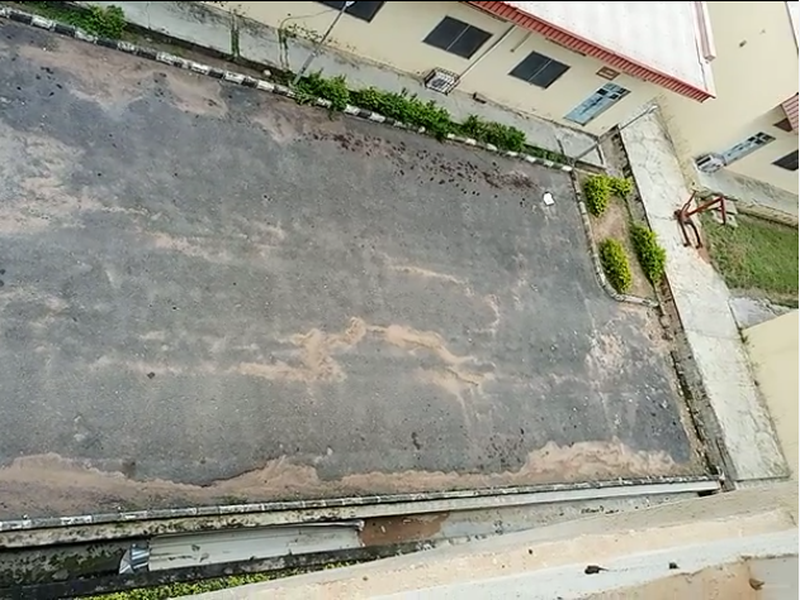five: (503, 145, 594, 293)
four: (362, 96, 457, 281)
three: (185, 55, 307, 264)
two: (1, 4, 127, 214)
